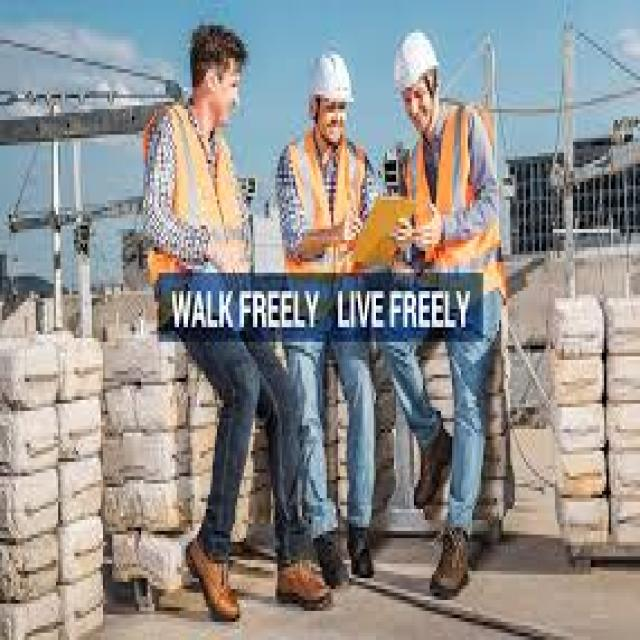shoes: (183, 535, 244, 629), (406, 406, 453, 512), (268, 556, 331, 610), (427, 527, 474, 599), (312, 535, 349, 587), (346, 524, 379, 582)
